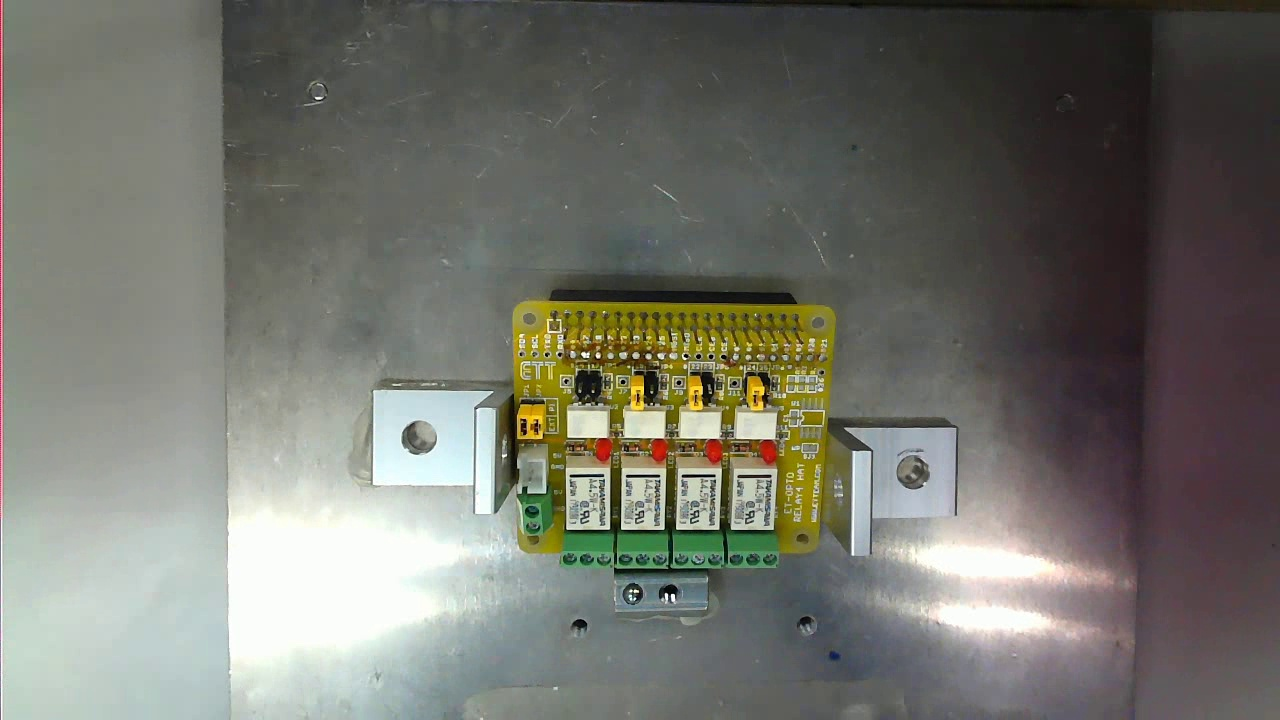can: (493, 297, 840, 576)
